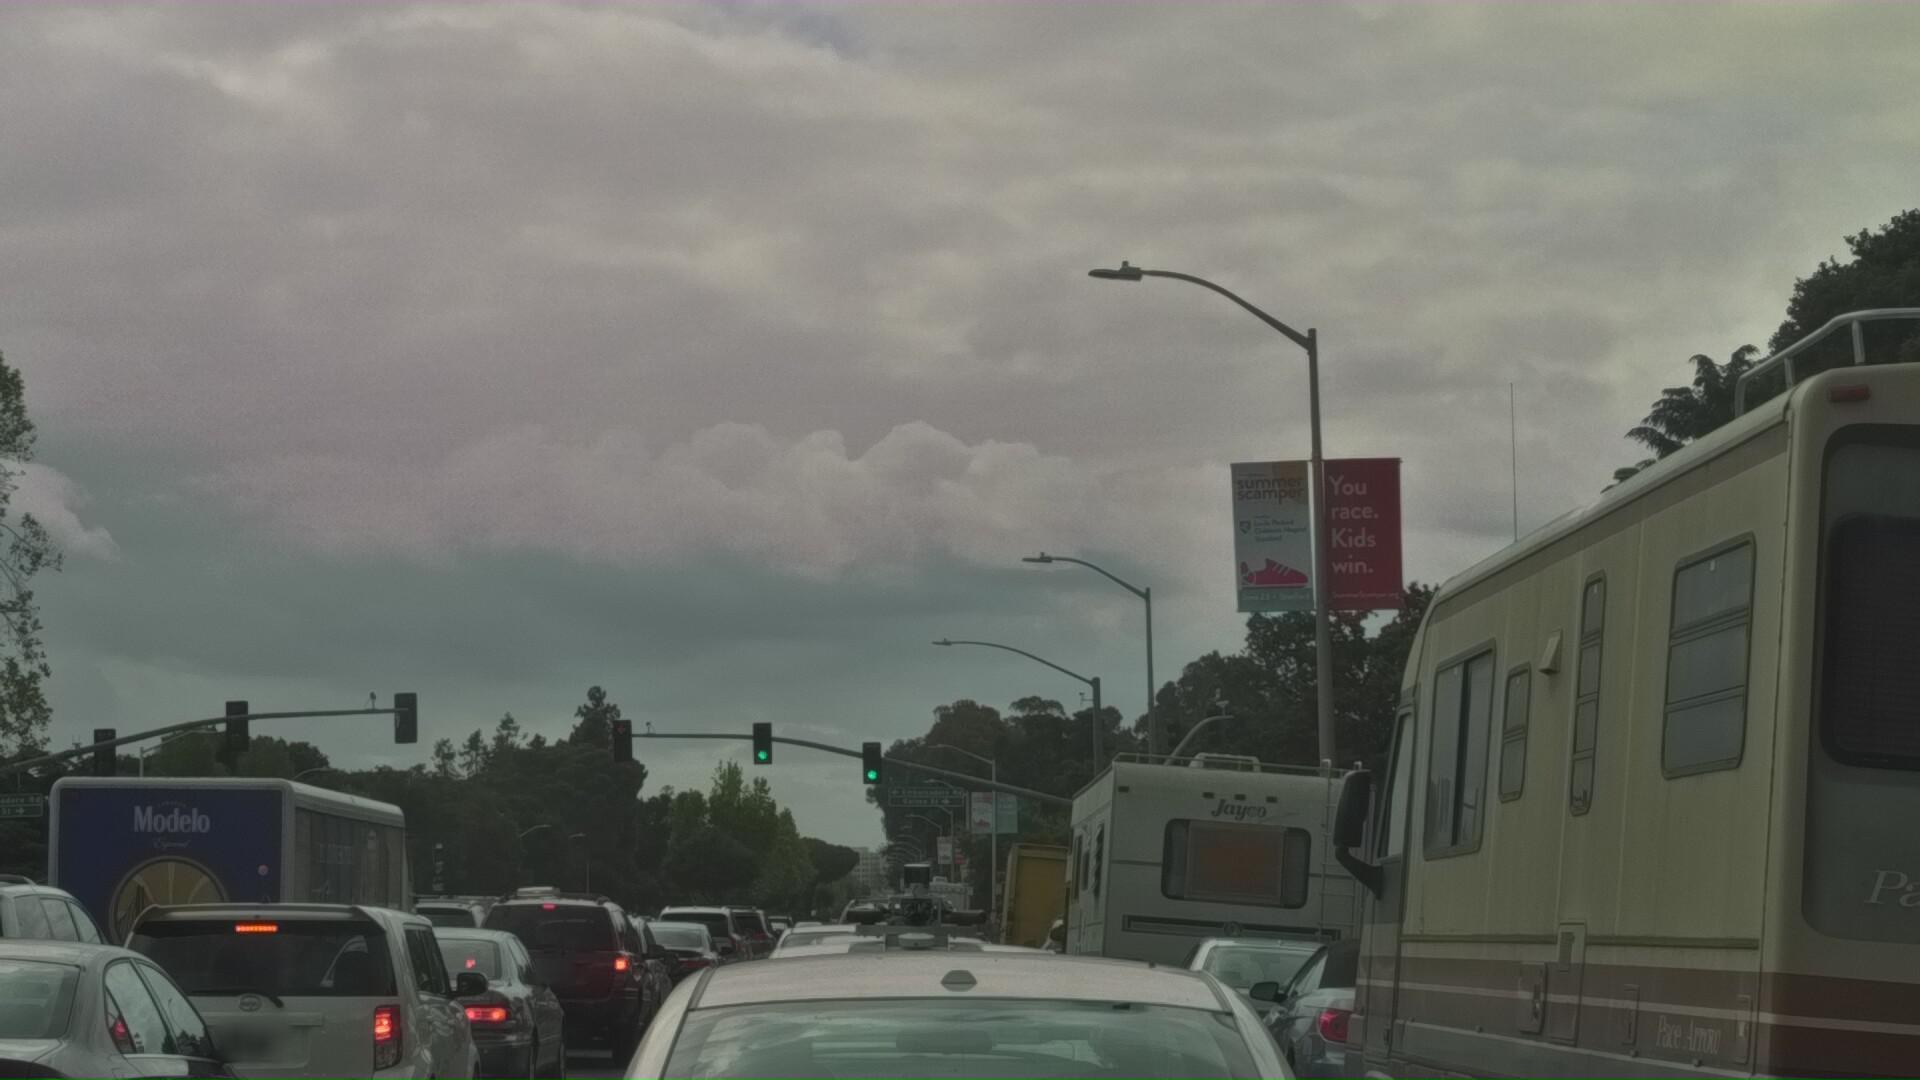bus: (37, 847, 454, 1080)
car: (468, 913, 1520, 1080), (655, 899, 1211, 1080), (61, 955, 495, 1080), (1244, 1007, 1605, 1080), (733, 992, 1027, 1080), (0, 990, 289, 1080), (442, 977, 669, 1080), (291, 1004, 579, 1080), (728, 992, 967, 1080), (1147, 1005, 1416, 1080), (0, 957, 148, 1080), (790, 992, 975, 1080), (506, 1001, 686, 1080), (603, 1007, 742, 1080), (646, 1006, 760, 1080), (690, 1011, 782, 1080), (0, 880, 24, 1080)
other_vehicle: (1290, 251, 1920, 1080), (1060, 803, 1411, 1080)
truck: (993, 907, 1178, 1080)
